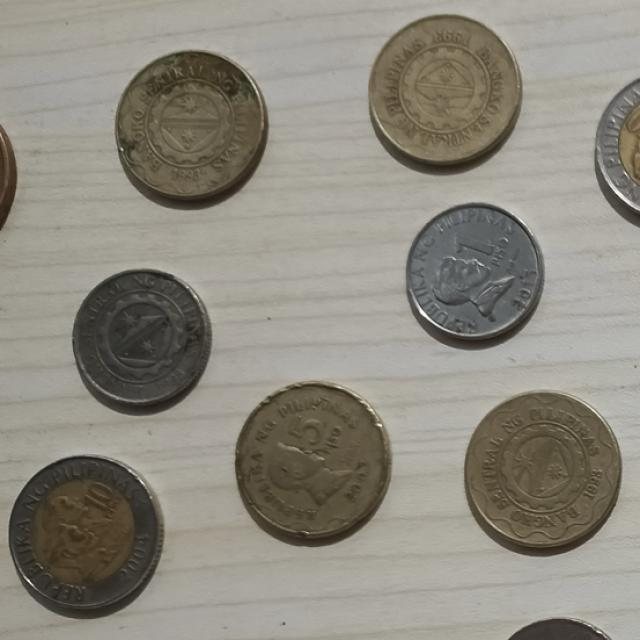10_peso: (9, 456, 162, 609)
1_peso: (73, 269, 211, 403), (407, 204, 543, 338)
5_peso: (236, 382, 389, 538), (465, 391, 619, 545), (370, 15, 521, 164), (116, 51, 266, 199)
